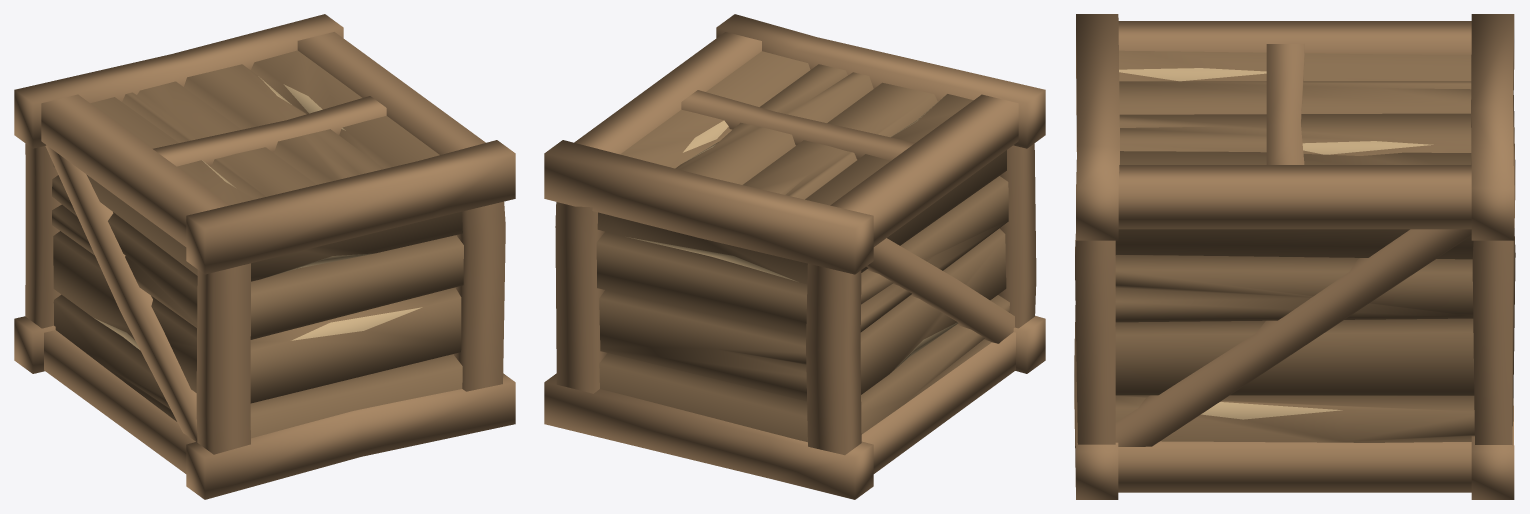
Rendered from rpgpp_ag_box_wood_01.fbx.
3 views of the same model, side by side, from view 1: azimuth 30°, elevation 25°; view 2: azimuth 150°, elevation 25°; view 3: azimuth 270°, elevation 25° (orthographic). The views are drawn at different scales.
Parts seen in each view (by area): view 1: rpgpp_ag_box_wood_01; view 2: rpgpp_ag_box_wood_01; view 3: rpgpp_ag_box_wood_01.
Boxes of the visible parts, x1,y1,x2,y2 form: rpgpp_ag_box_wood_01: (14,14,515,499); rpgpp_ag_box_wood_01: (544,14,1045,499); rpgpp_ag_box_wood_01: (1074,14,1515,499).
Bounding box in the file's own units: 0.9768 × 0.8136 × 1.04.
